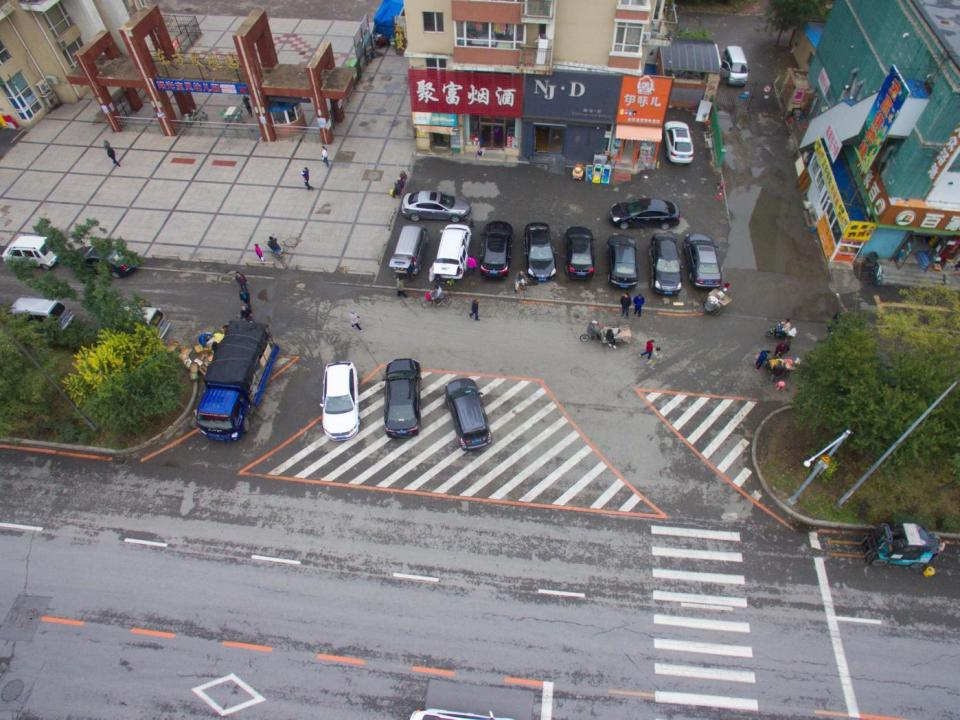car: (444, 379, 493, 452), (320, 358, 362, 440), (382, 358, 420, 436), (401, 190, 472, 222), (648, 233, 684, 295), (608, 198, 680, 228), (523, 223, 558, 283), (72, 248, 136, 280), (481, 220, 513, 282), (685, 233, 720, 288), (607, 235, 640, 290), (566, 226, 596, 280), (661, 122, 694, 167)
truck: (196, 316, 279, 443)
van: (6, 297, 73, 332), (111, 306, 170, 341), (0, 235, 60, 269), (388, 225, 428, 276), (435, 226, 471, 282), (718, 46, 750, 89), (372, 0, 403, 43)
